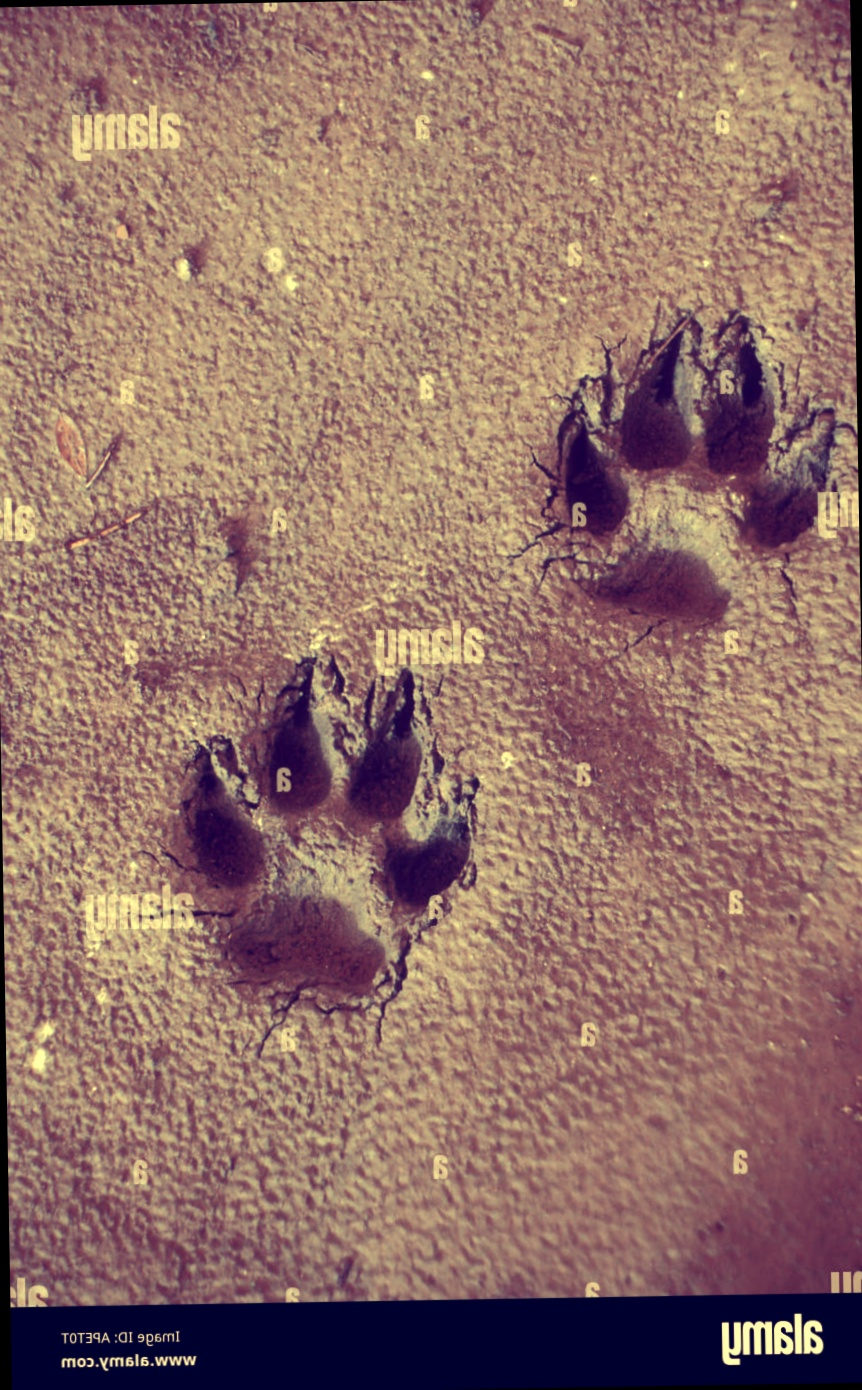loup: (348, 622, 759, 1041), (1, 277, 348, 671)
